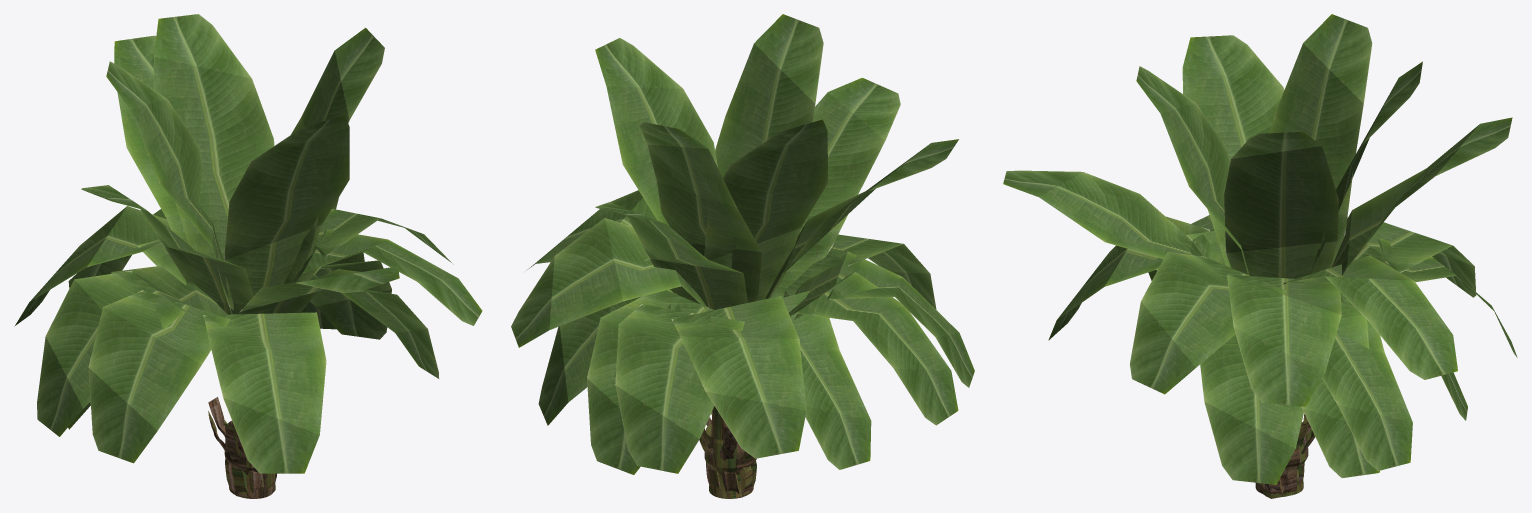
The model's file is plantaPlatano.glb.
3 renders of one model, left to right at view 1: azimuth 30°, elevation 25°; view 2: azimuth 150°, elevation 25°; view 3: azimuth 270°, elevation 25°, orthographic.
Parts seen in each view (by area): view 1: Cylinder.010; view 2: Cylinder.010; view 3: Cylinder.010.
Part boxes in pixels (<box>): Cylinder.010: <box>14,14,482,498</box>; Cylinder.010: <box>511,14,974,498</box>; Cylinder.010: <box>1003,14,1517,498</box>.
Size of the model in its own units: 2.9 by 2.87 by 3.21.
2 materials, 2 textured.
